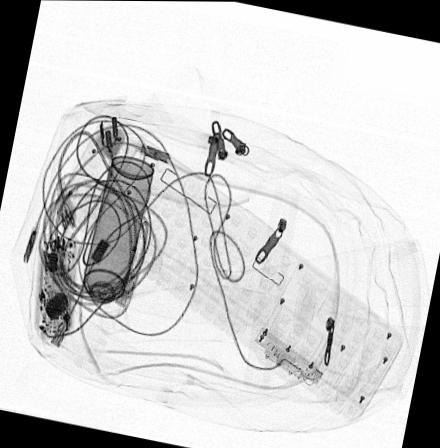Sprayer: (73, 153, 154, 329)
